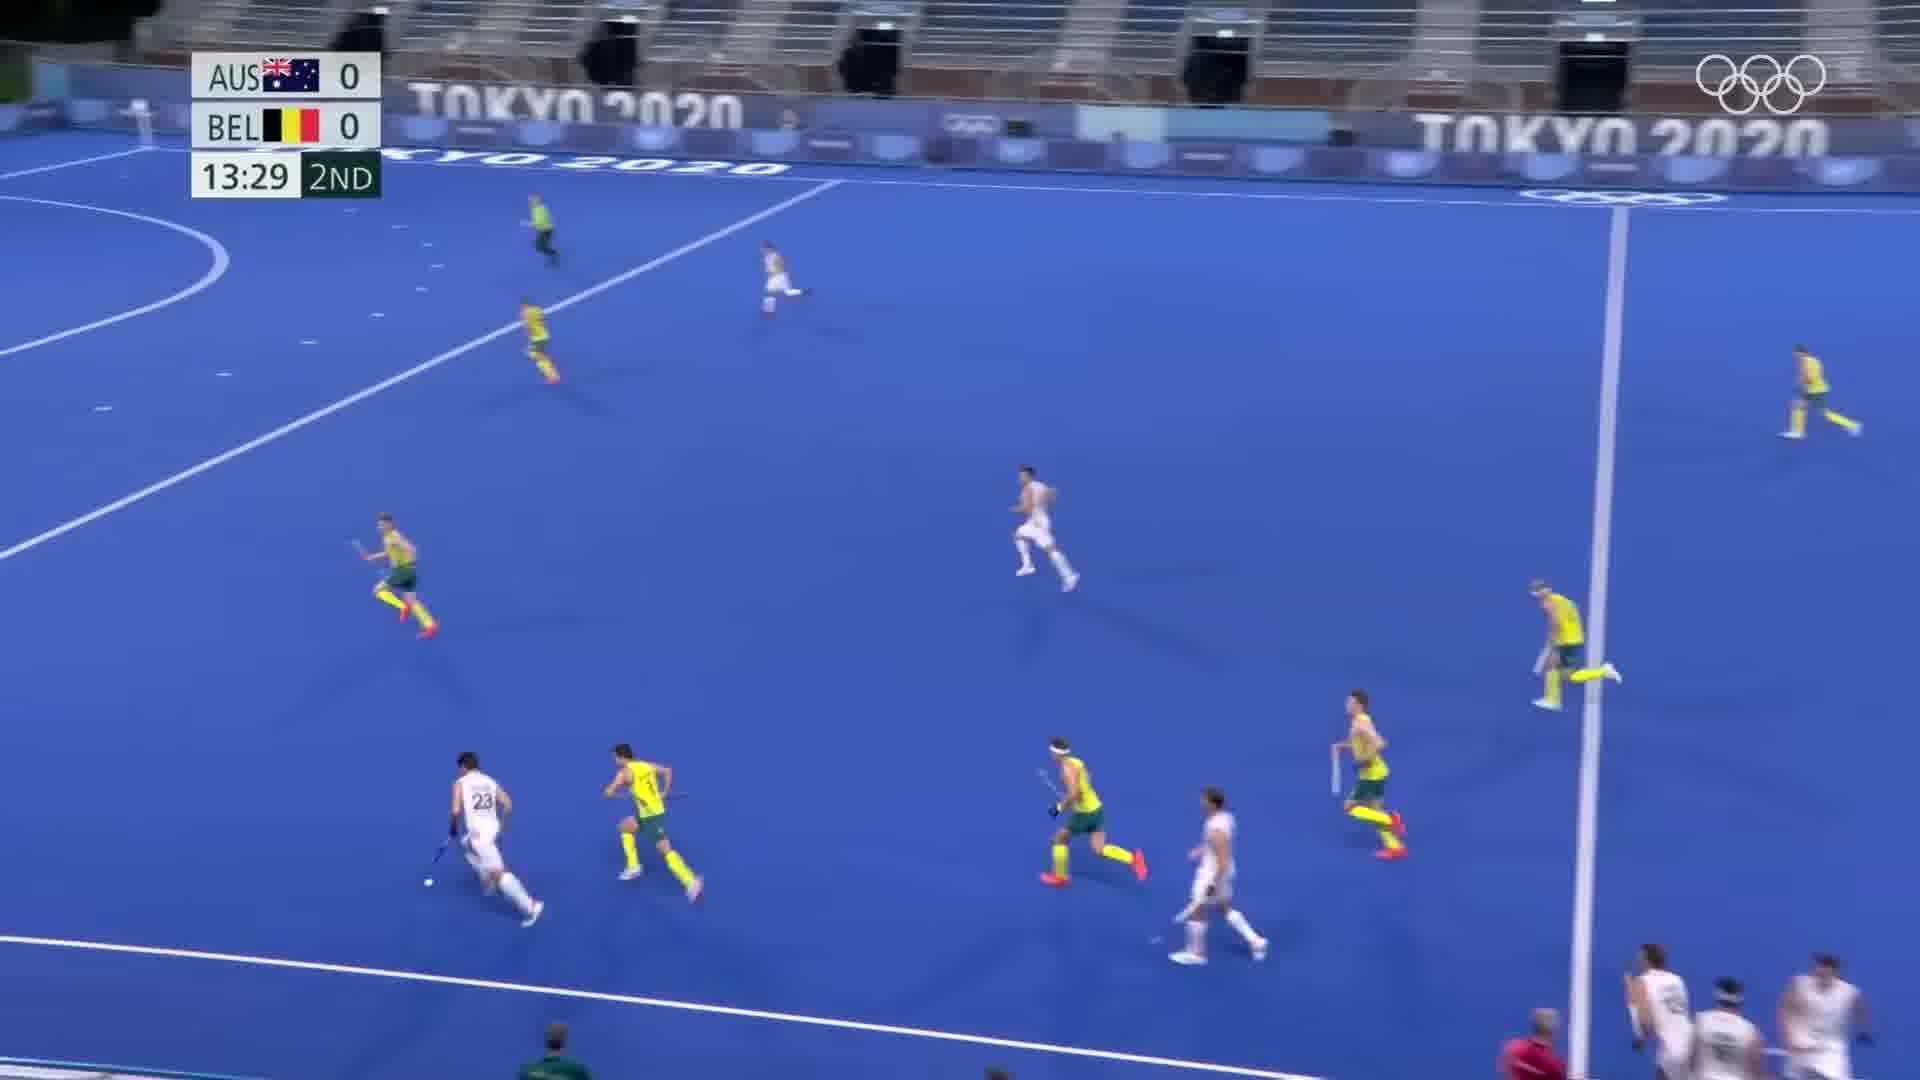ball: (415, 870, 445, 898)
